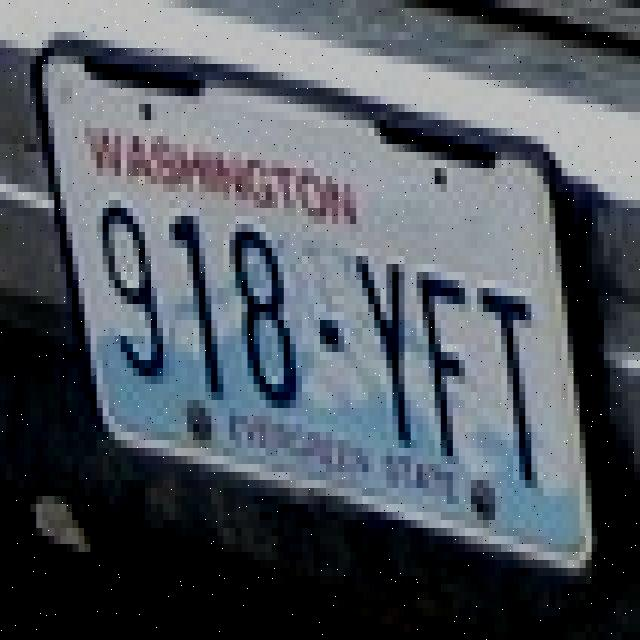licenseplate: (31, 34, 602, 590)
